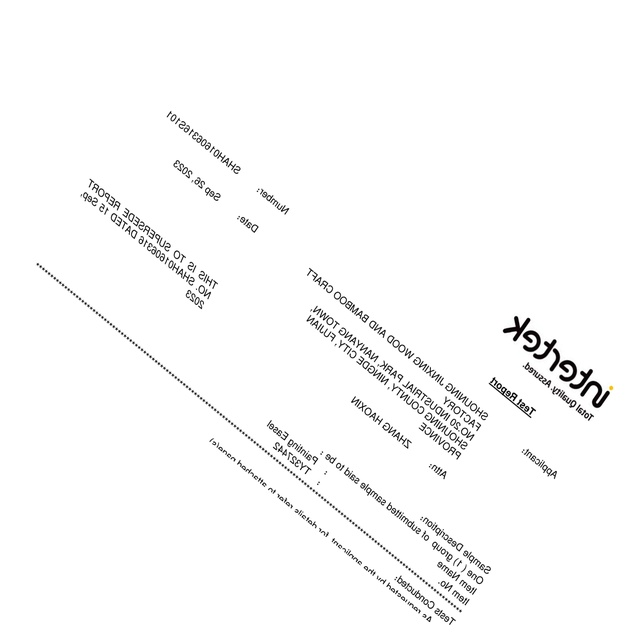intertek: (504, 314, 616, 410)
